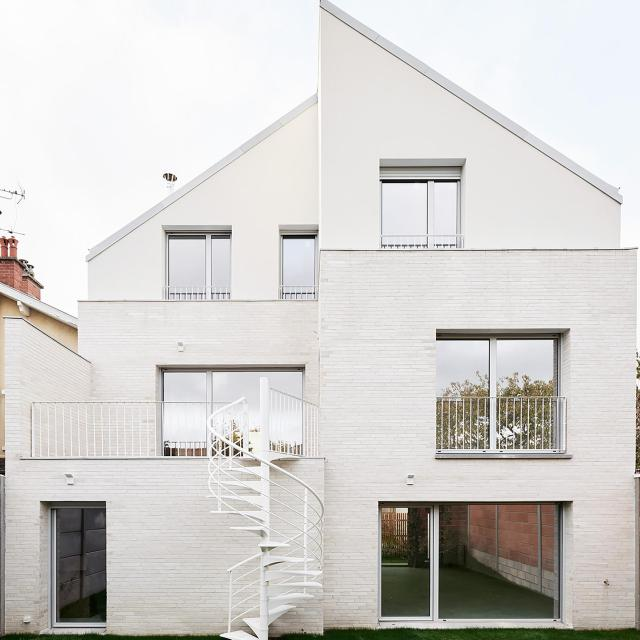door: (375, 502, 442, 625), (52, 504, 107, 631)
railing: (31, 399, 240, 456), (435, 397, 567, 447), (383, 234, 465, 250), (164, 286, 233, 299), (282, 285, 316, 300)
window: (374, 502, 566, 627), (434, 334, 564, 448), (162, 368, 302, 457), (383, 165, 464, 249), (163, 231, 231, 300), (280, 230, 317, 299)
